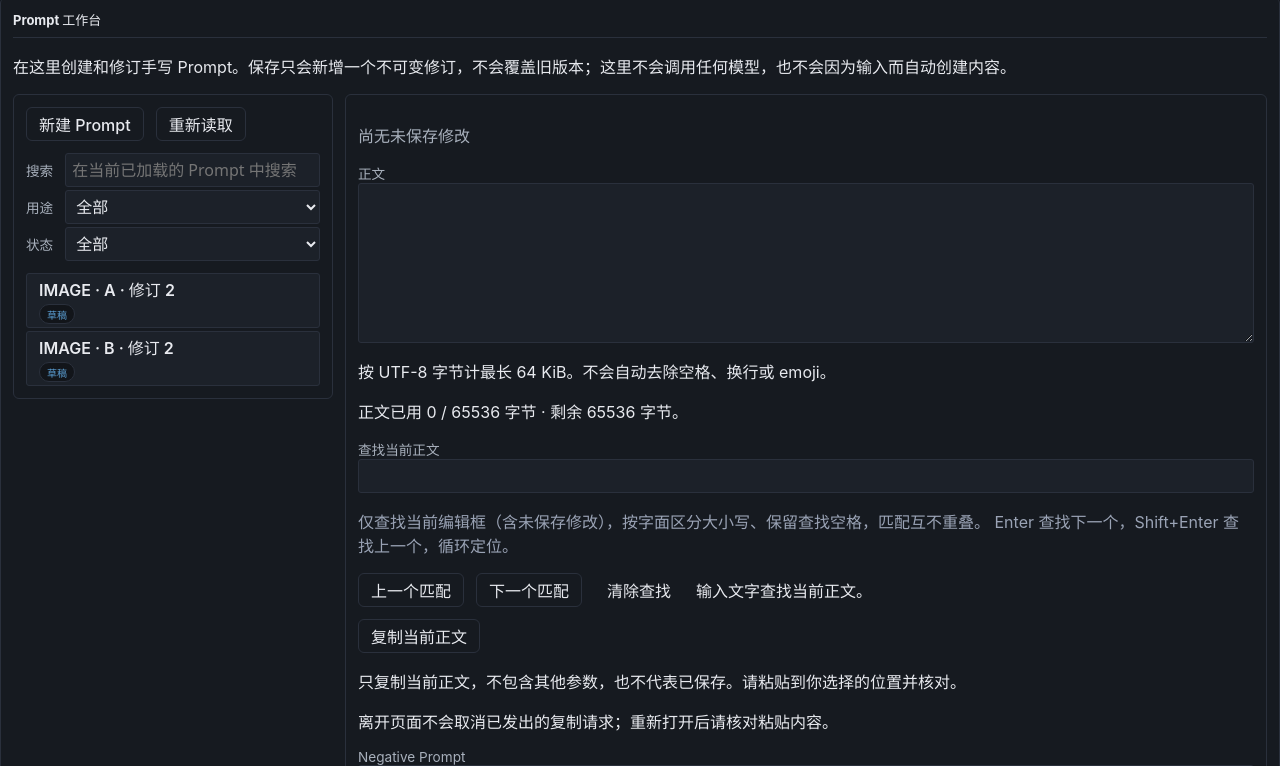
mounted save receipts survive family navigation › reopens A with its actual saved outcome and never changes B
The image size is (1280, 766).
Click the button "IMAGE · A · 修订 2 草稿" at (173, 300), box x1=26 y1=273 x2=320 y2=328
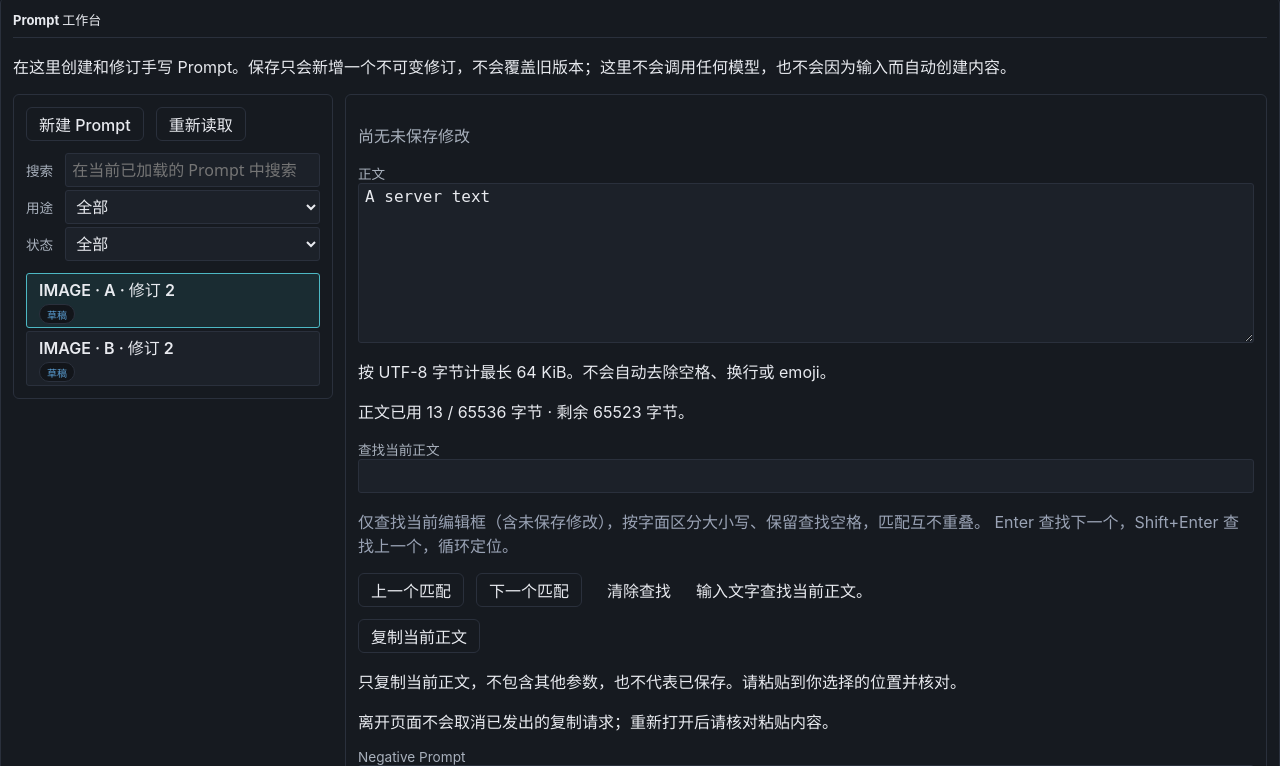
Expected: the text box labelled "正文" holds "A server text"
Replace the text in the text box labelled "正文" with "A frozen local text" at (806, 263), box x1=358 y1=183 x2=1254 y2=343
(page scrolled)
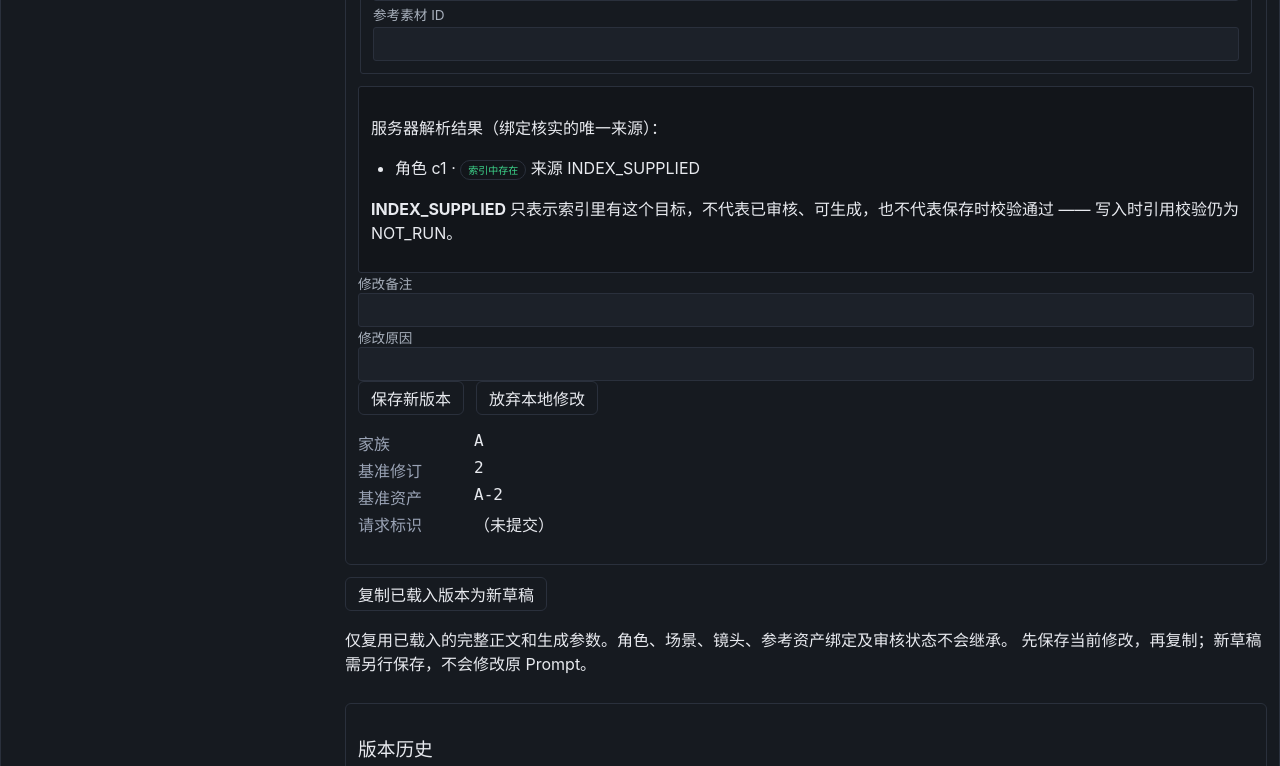
Click the button "保存新版本" at (411, 398), box x1=358 y1=380 x2=464 y2=414
(page scrolled)
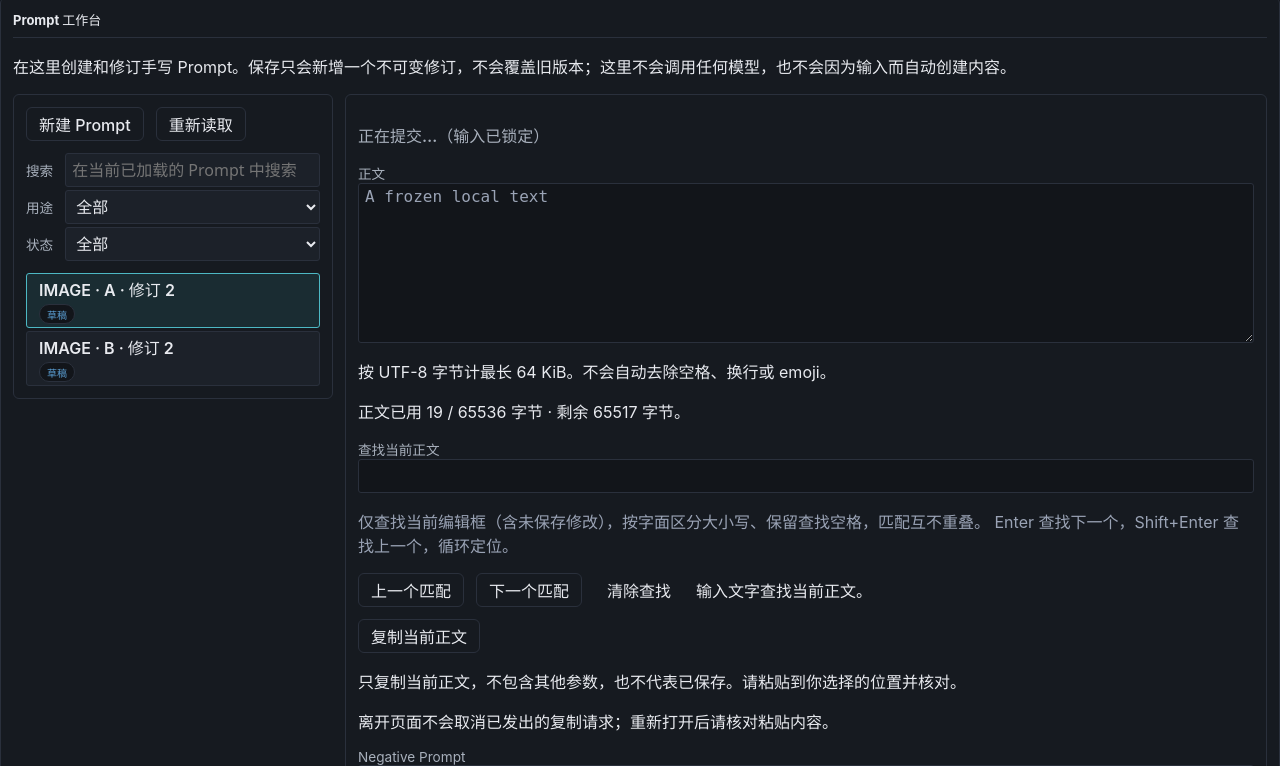
Click the button "IMAGE · B · 修订 2 草稿" at (173, 358), box x1=26 y1=331 x2=320 y2=386
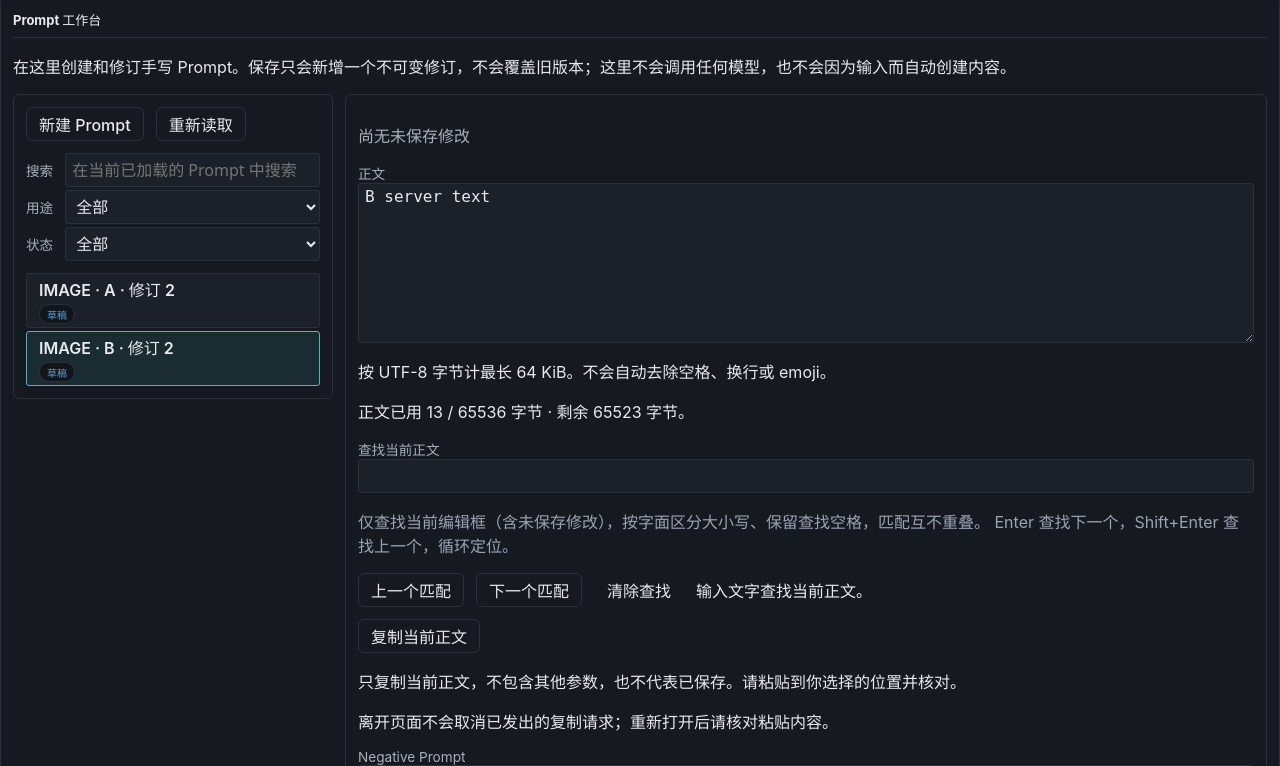
Expected: the text "已保存" is not shown
Expected: the text box labelled "正文" holds "B server text", x1=358 y1=183 x2=1254 y2=343
Click the button "IMAGE · A · 修订 2 草稿" at (173, 300), box x1=26 y1=273 x2=320 y2=328
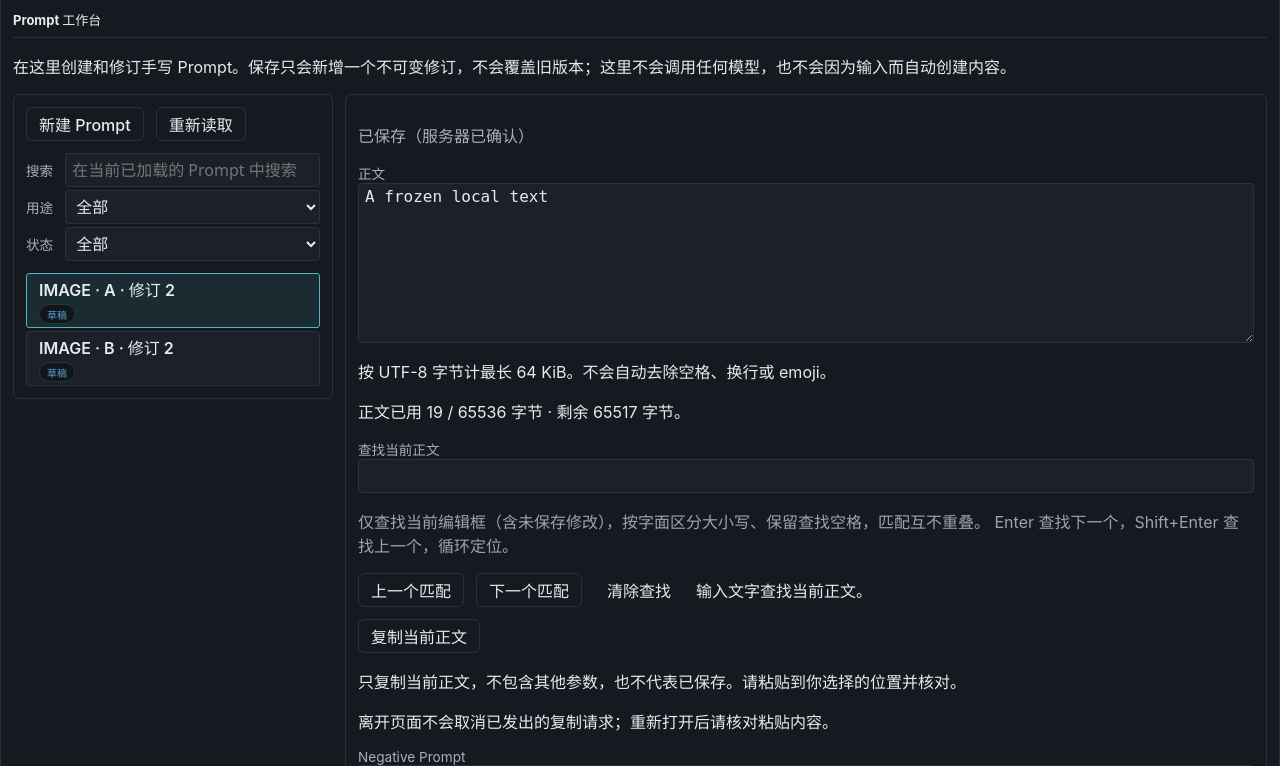
Expected: the message "已保存（服务器已确认）" is shown, x1=358 y1=126 x2=534 y2=146
